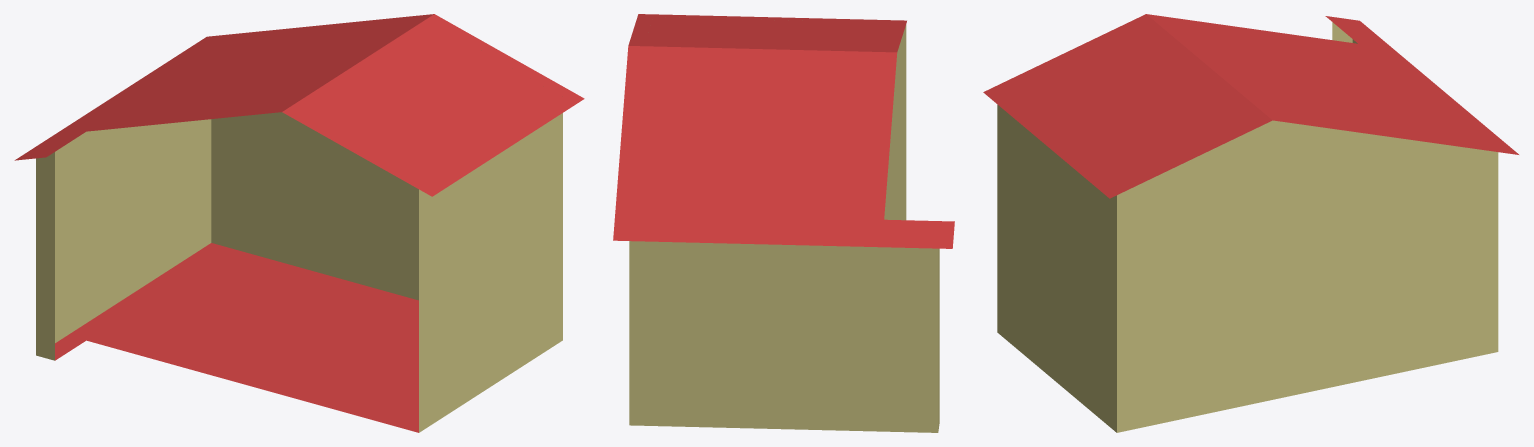
3 views of the same model, side by side, from view 1: azimuth 30°, elevation 25°; view 2: azimuth 150°, elevation 25°; view 3: azimuth 270°, elevation 25° (orthographic). The views are drawn at different scales.
Size of the model in its own units: 16.27 by 16.65 by 9.82.
